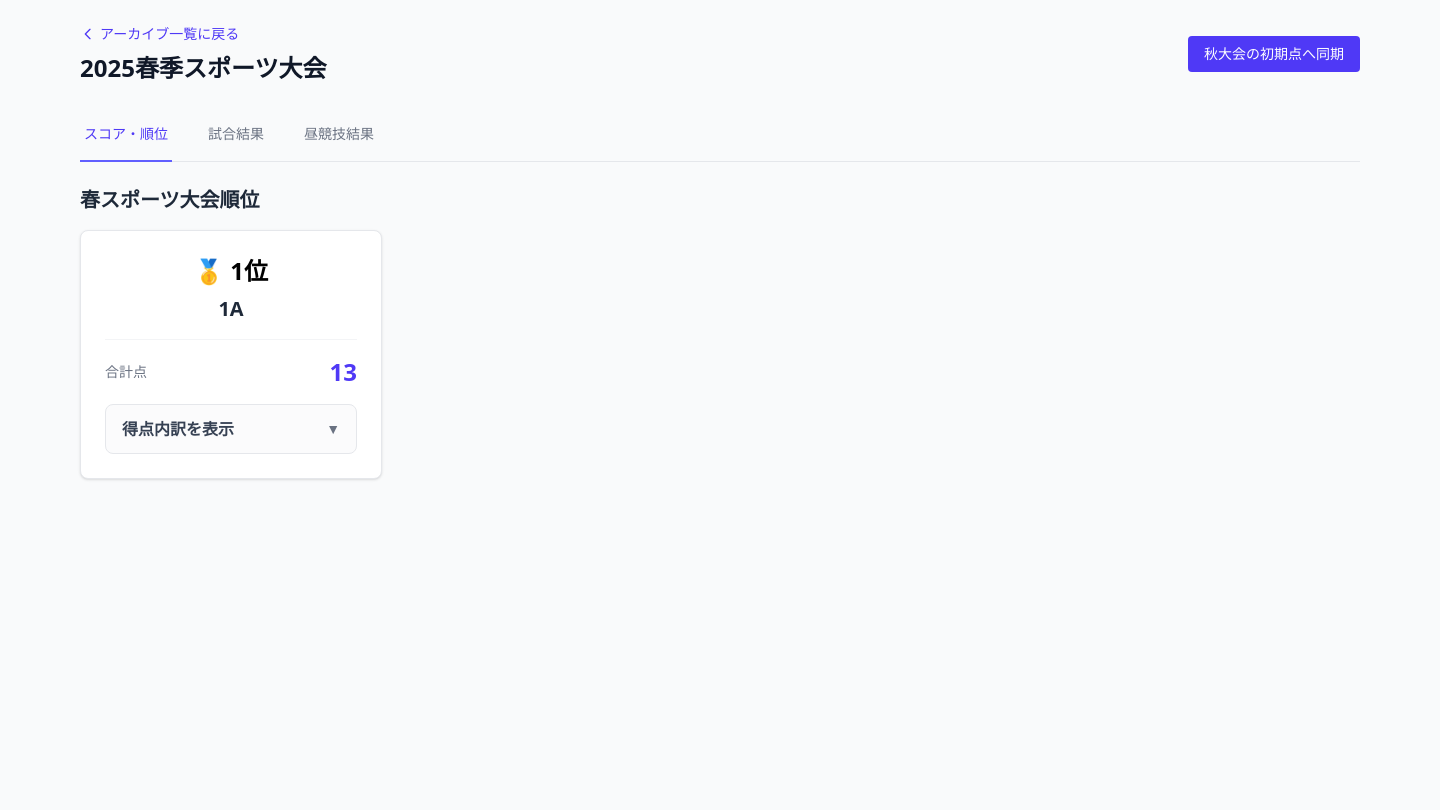
Test: Archive Event Detail Page › インポート済みのタイピング結果をアーカイブに表示し、試合の未登録表示を出さないこと
This screenshot has width=1440, height=810.
Step 1. Click the button "昼競技結果" → (339, 135), box [300,108,378,162]
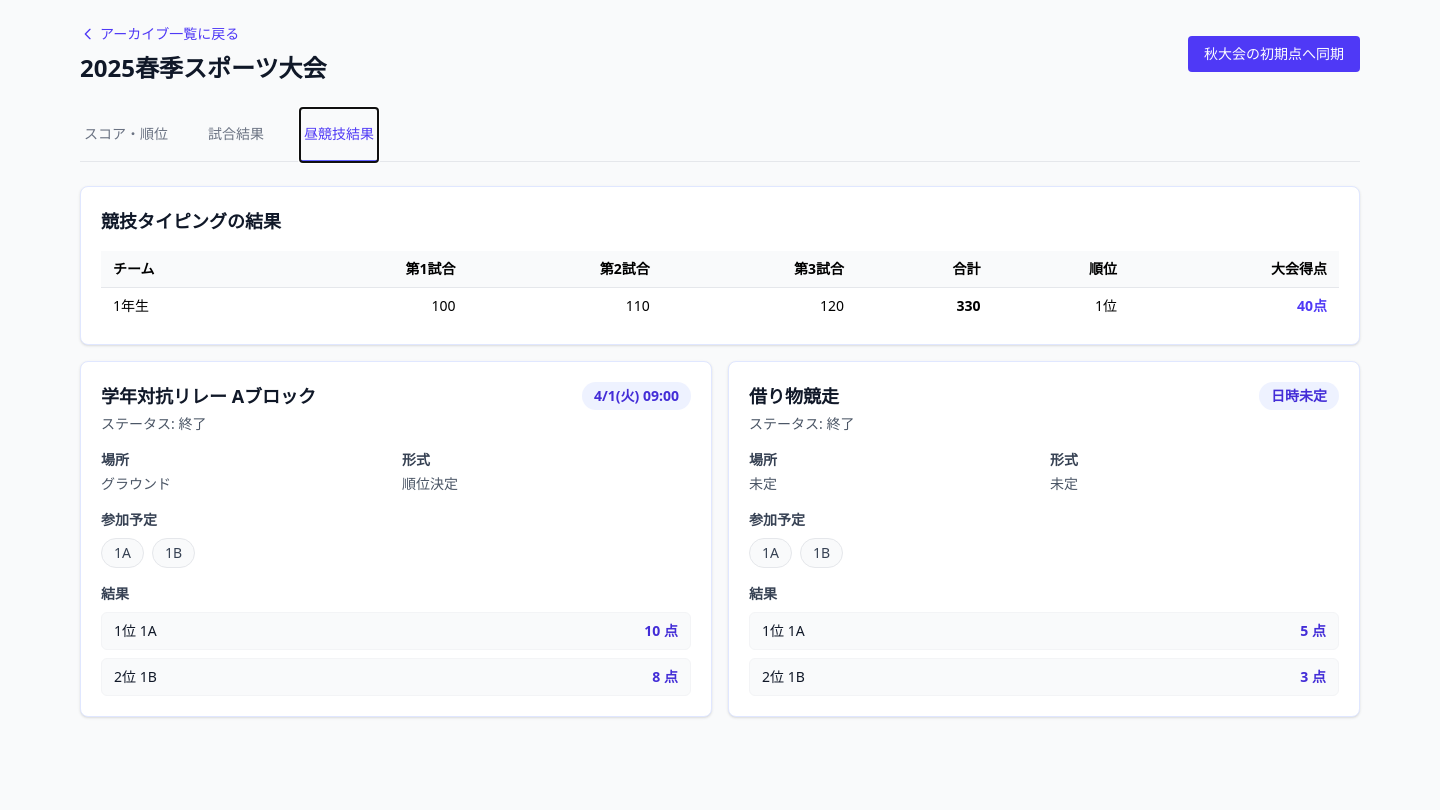
Expected: the heading "競技タイピングの結果" is shown, [101,209,281,233]
Expected: the cell "330" is shown, [856,288,992,324]
Expected: the cell "1位" is shown, [992,288,1129,324]
